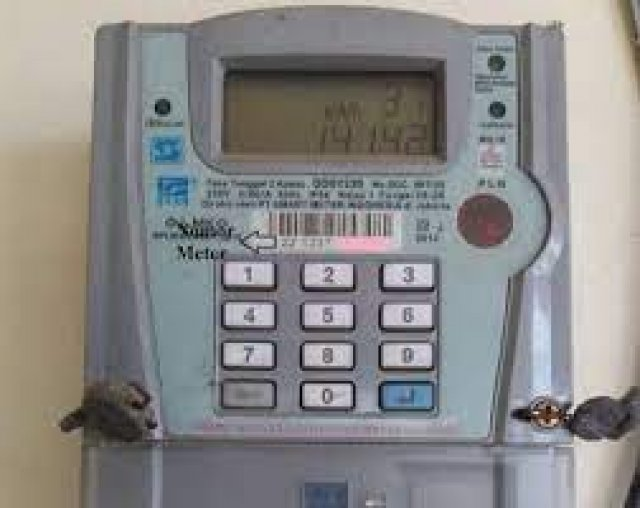box: (224, 69, 441, 160)
